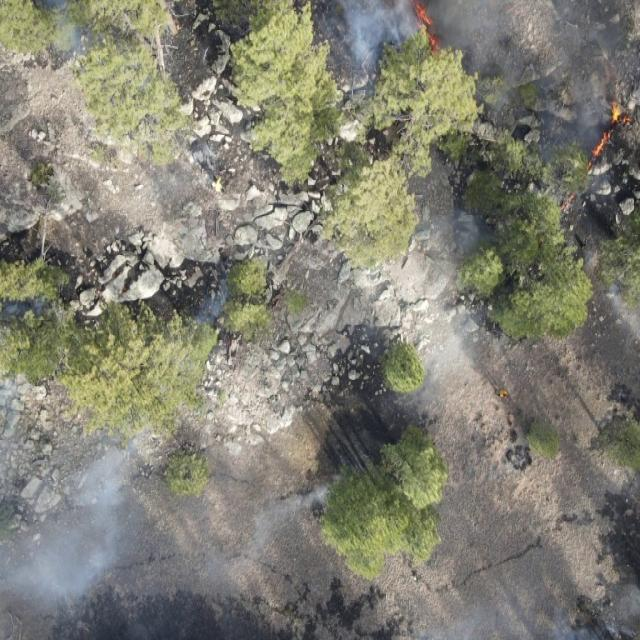fire: (411, 0, 444, 54), (586, 131, 616, 171), (607, 101, 633, 128), (556, 189, 578, 219)
smoke: (0, 385, 147, 640), (317, 1, 640, 111), (134, 476, 346, 600), (423, 584, 640, 640), (528, 108, 640, 196), (37, 0, 91, 56), (422, 209, 478, 261), (194, 276, 234, 336), (0, 287, 52, 325)
